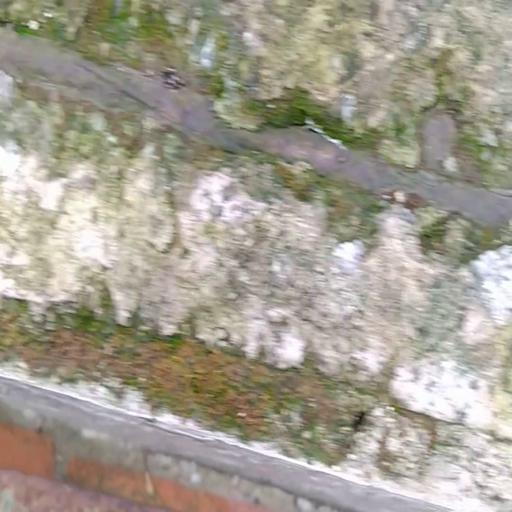spalling: (5, 0, 512, 505)
